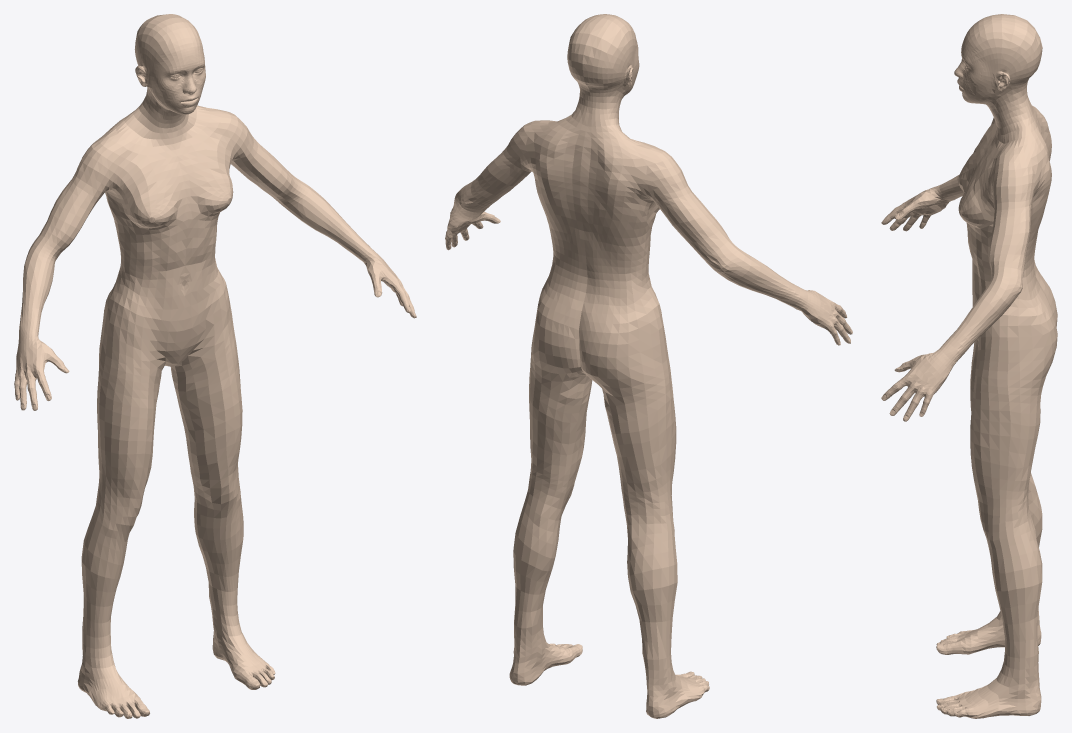
The model's file is female-adult-lean-high.glb.
The picture shows the model from 3 angles, left to right: view 1: azimuth 30°, elevation 25°; view 2: azimuth 150°, elevation 25°; view 3: azimuth 270°, elevation 25°; orthographic projection.
Parts seen in each view (by area): view 1: world; view 2: world; view 3: world.
Boxes of the visible parts, left/top/right/bottom form: world: left=14, top=14, right=416, bottom=718; world: left=445, top=14, right=852, bottom=718; world: left=881, top=14, right=1057, bottom=718.
Bounding box in the file's own units: 1.12 × 1.81 × 0.4354.
